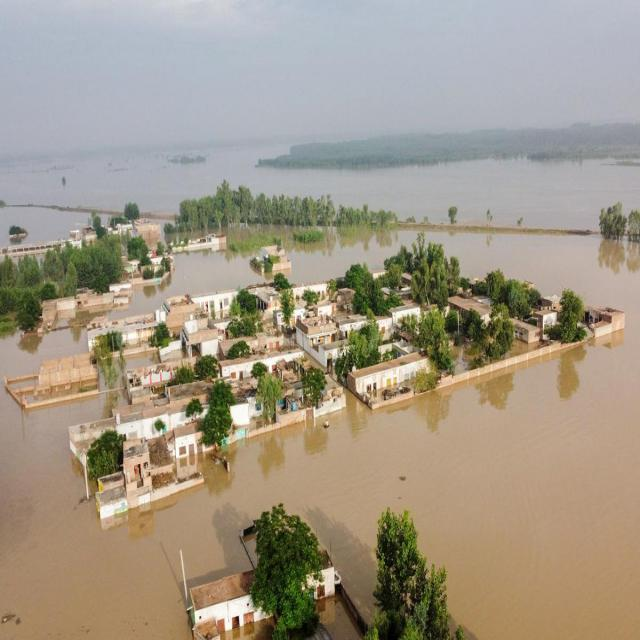flood: (0, 232, 640, 640), (0, 147, 640, 228), (112, 253, 261, 316), (270, 231, 418, 282), (0, 209, 88, 244)
house: (189, 571, 273, 639), (342, 349, 428, 407), (446, 288, 498, 338), (122, 437, 154, 499), (194, 287, 238, 326), (296, 314, 338, 350), (305, 564, 337, 608), (591, 306, 626, 336), (216, 353, 248, 385), (256, 243, 292, 270), (509, 318, 542, 346), (187, 328, 220, 356), (172, 427, 200, 459), (252, 287, 282, 311), (136, 218, 162, 244), (537, 296, 559, 310)
